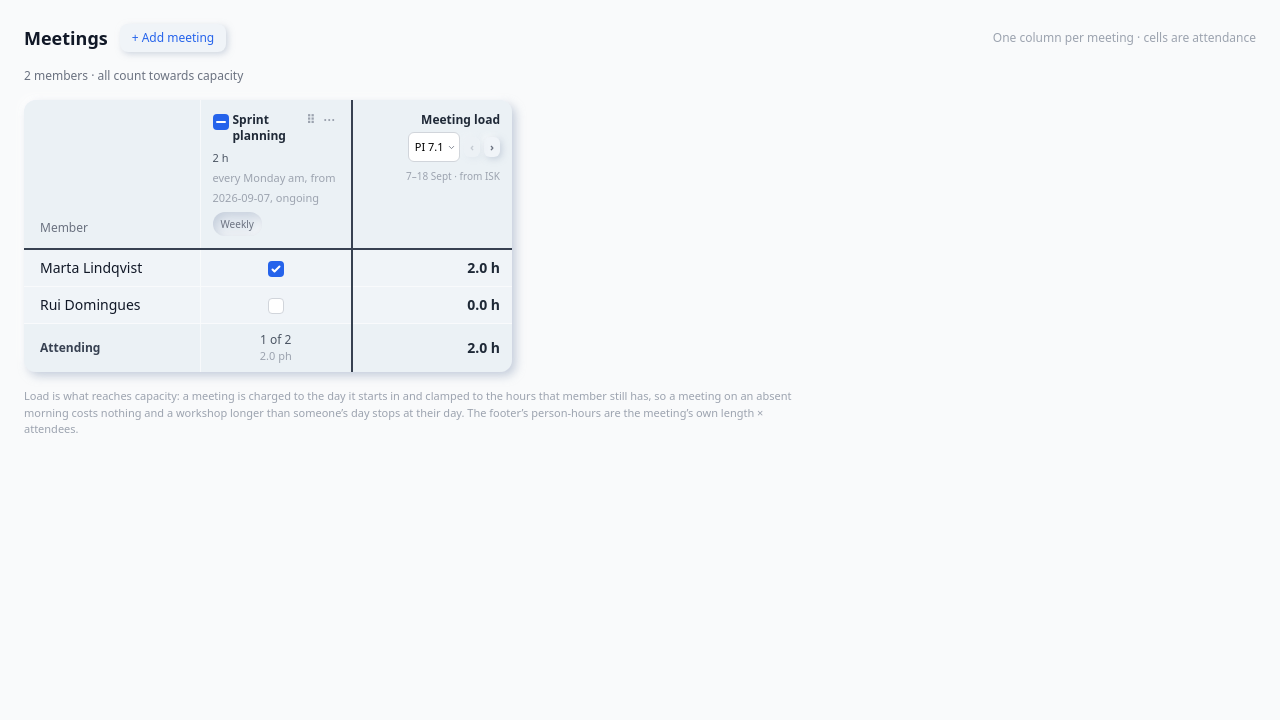
Scenario: MeetingsView › names the whole series in the delete confirm, and offers no per-occurrence choice
The image size is (1280, 720).
What coordinates should you click on to do the following:
click the button named "actions for Sprint planning"
I would click on:
 (329, 120)
Its box is [319,112,339,128].
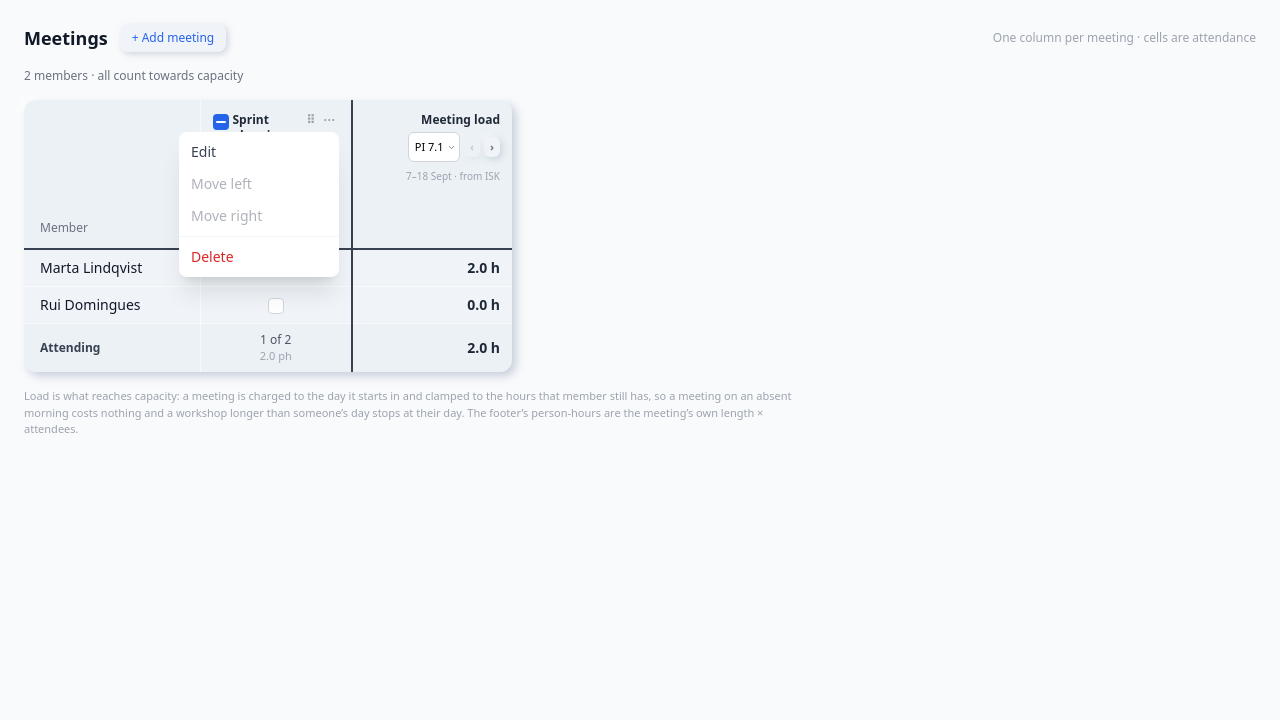
What coordinates should you click on to do the following:
click the menu item "Delete"
I would click on:
 (212, 256)
Its box is [191,247,234,266].
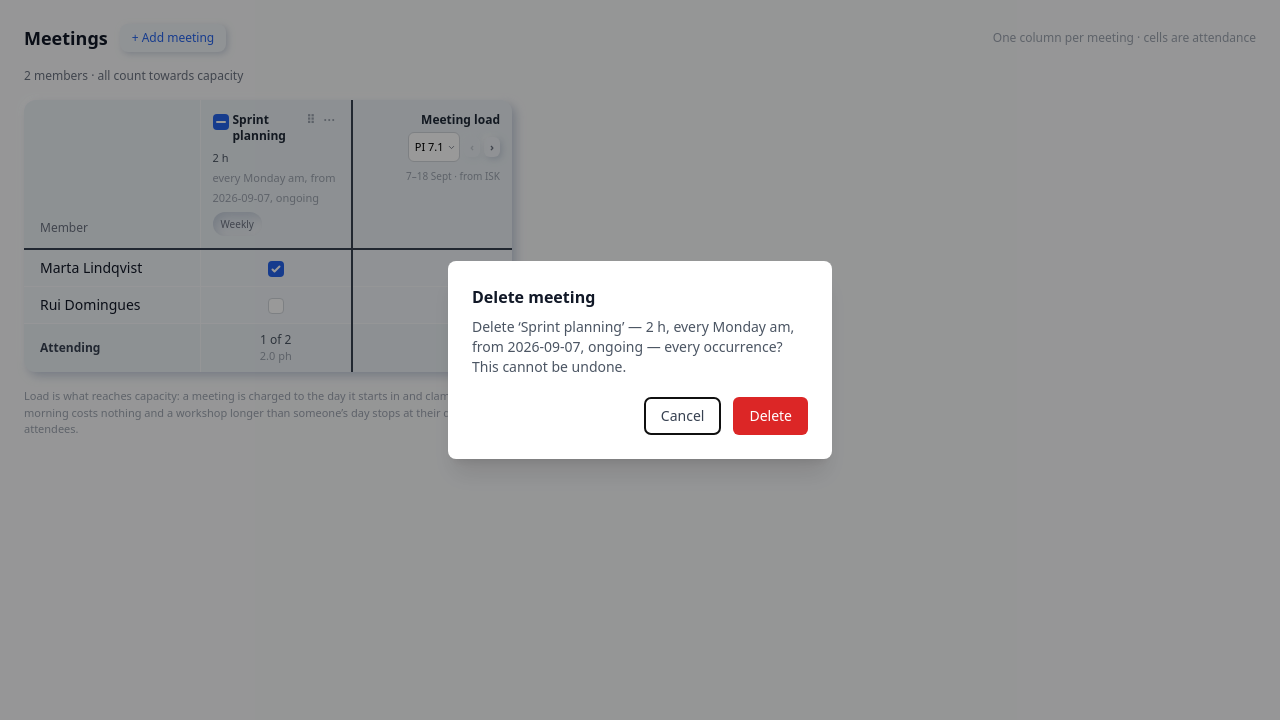
Expected: the text "every occurrence" is shown, [472,317,794,376]
